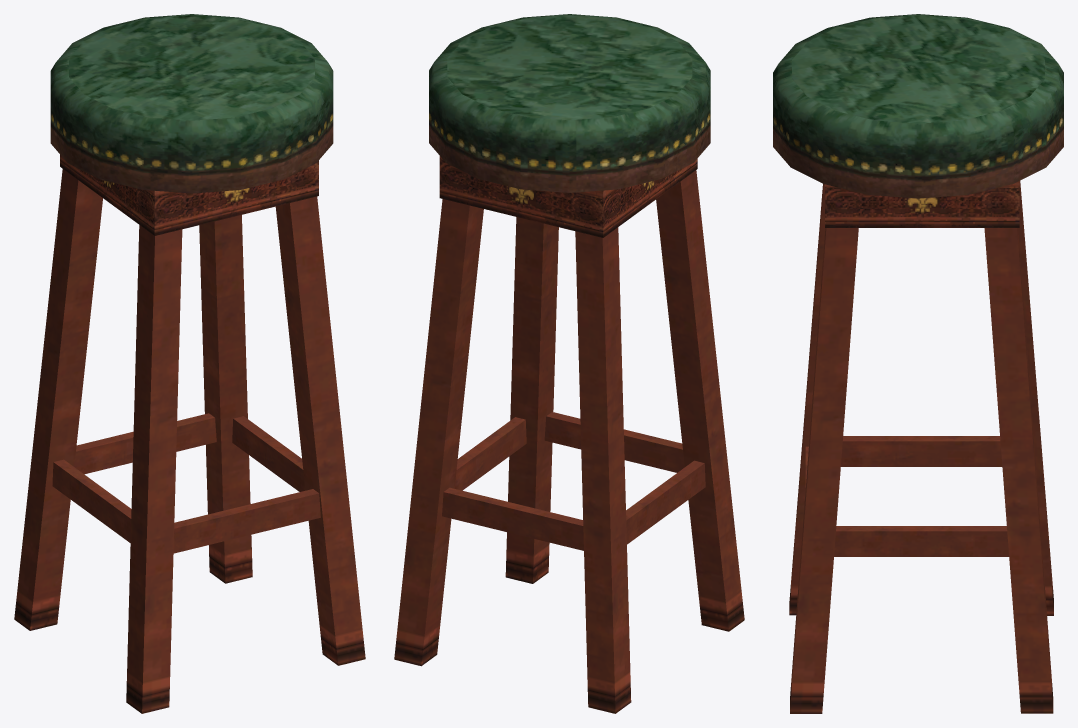
File: bookcase_stool.DAE
The picture shows the model from 3 angles, left to right: view 1: azimuth 30°, elevation 25°; view 2: azimuth 150°, elevation 25°; view 3: azimuth 270°, elevation 25°; orthographic projection. The views are drawn at different scales.
Visible parts, largest first — view 1: Cylinder001; view 2: Cylinder001; view 3: Cylinder001.
Boxes of the visible parts, x1,y1,x2,y2 form: Cylinder001: [14, 14, 365, 713]; Cylinder001: [394, 14, 744, 713]; Cylinder001: [773, 14, 1063, 713].
Bounding box in the file's own units: 0.5 × 1.1 × 0.4924.
